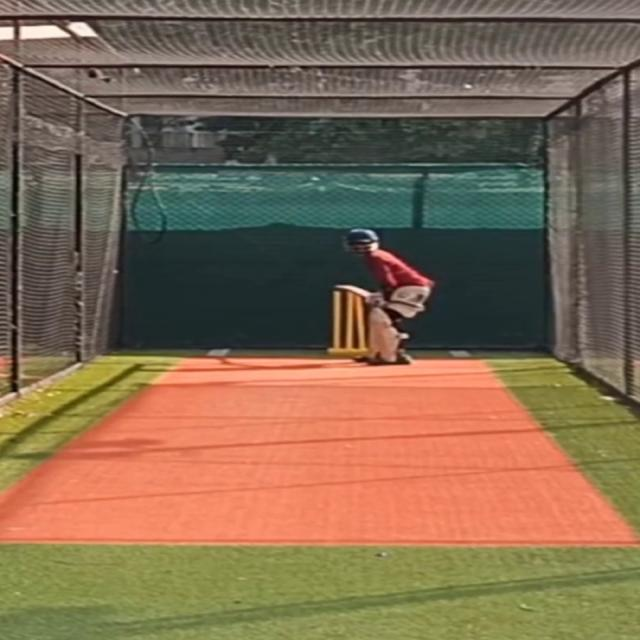stump: (327, 289, 366, 357)
